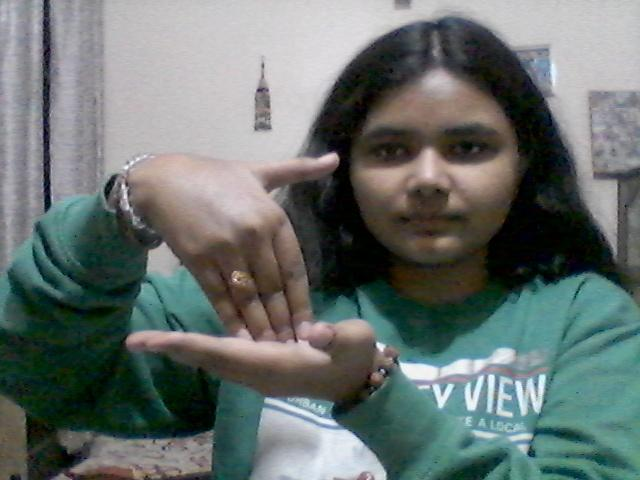repeat: (113, 140, 406, 398)
